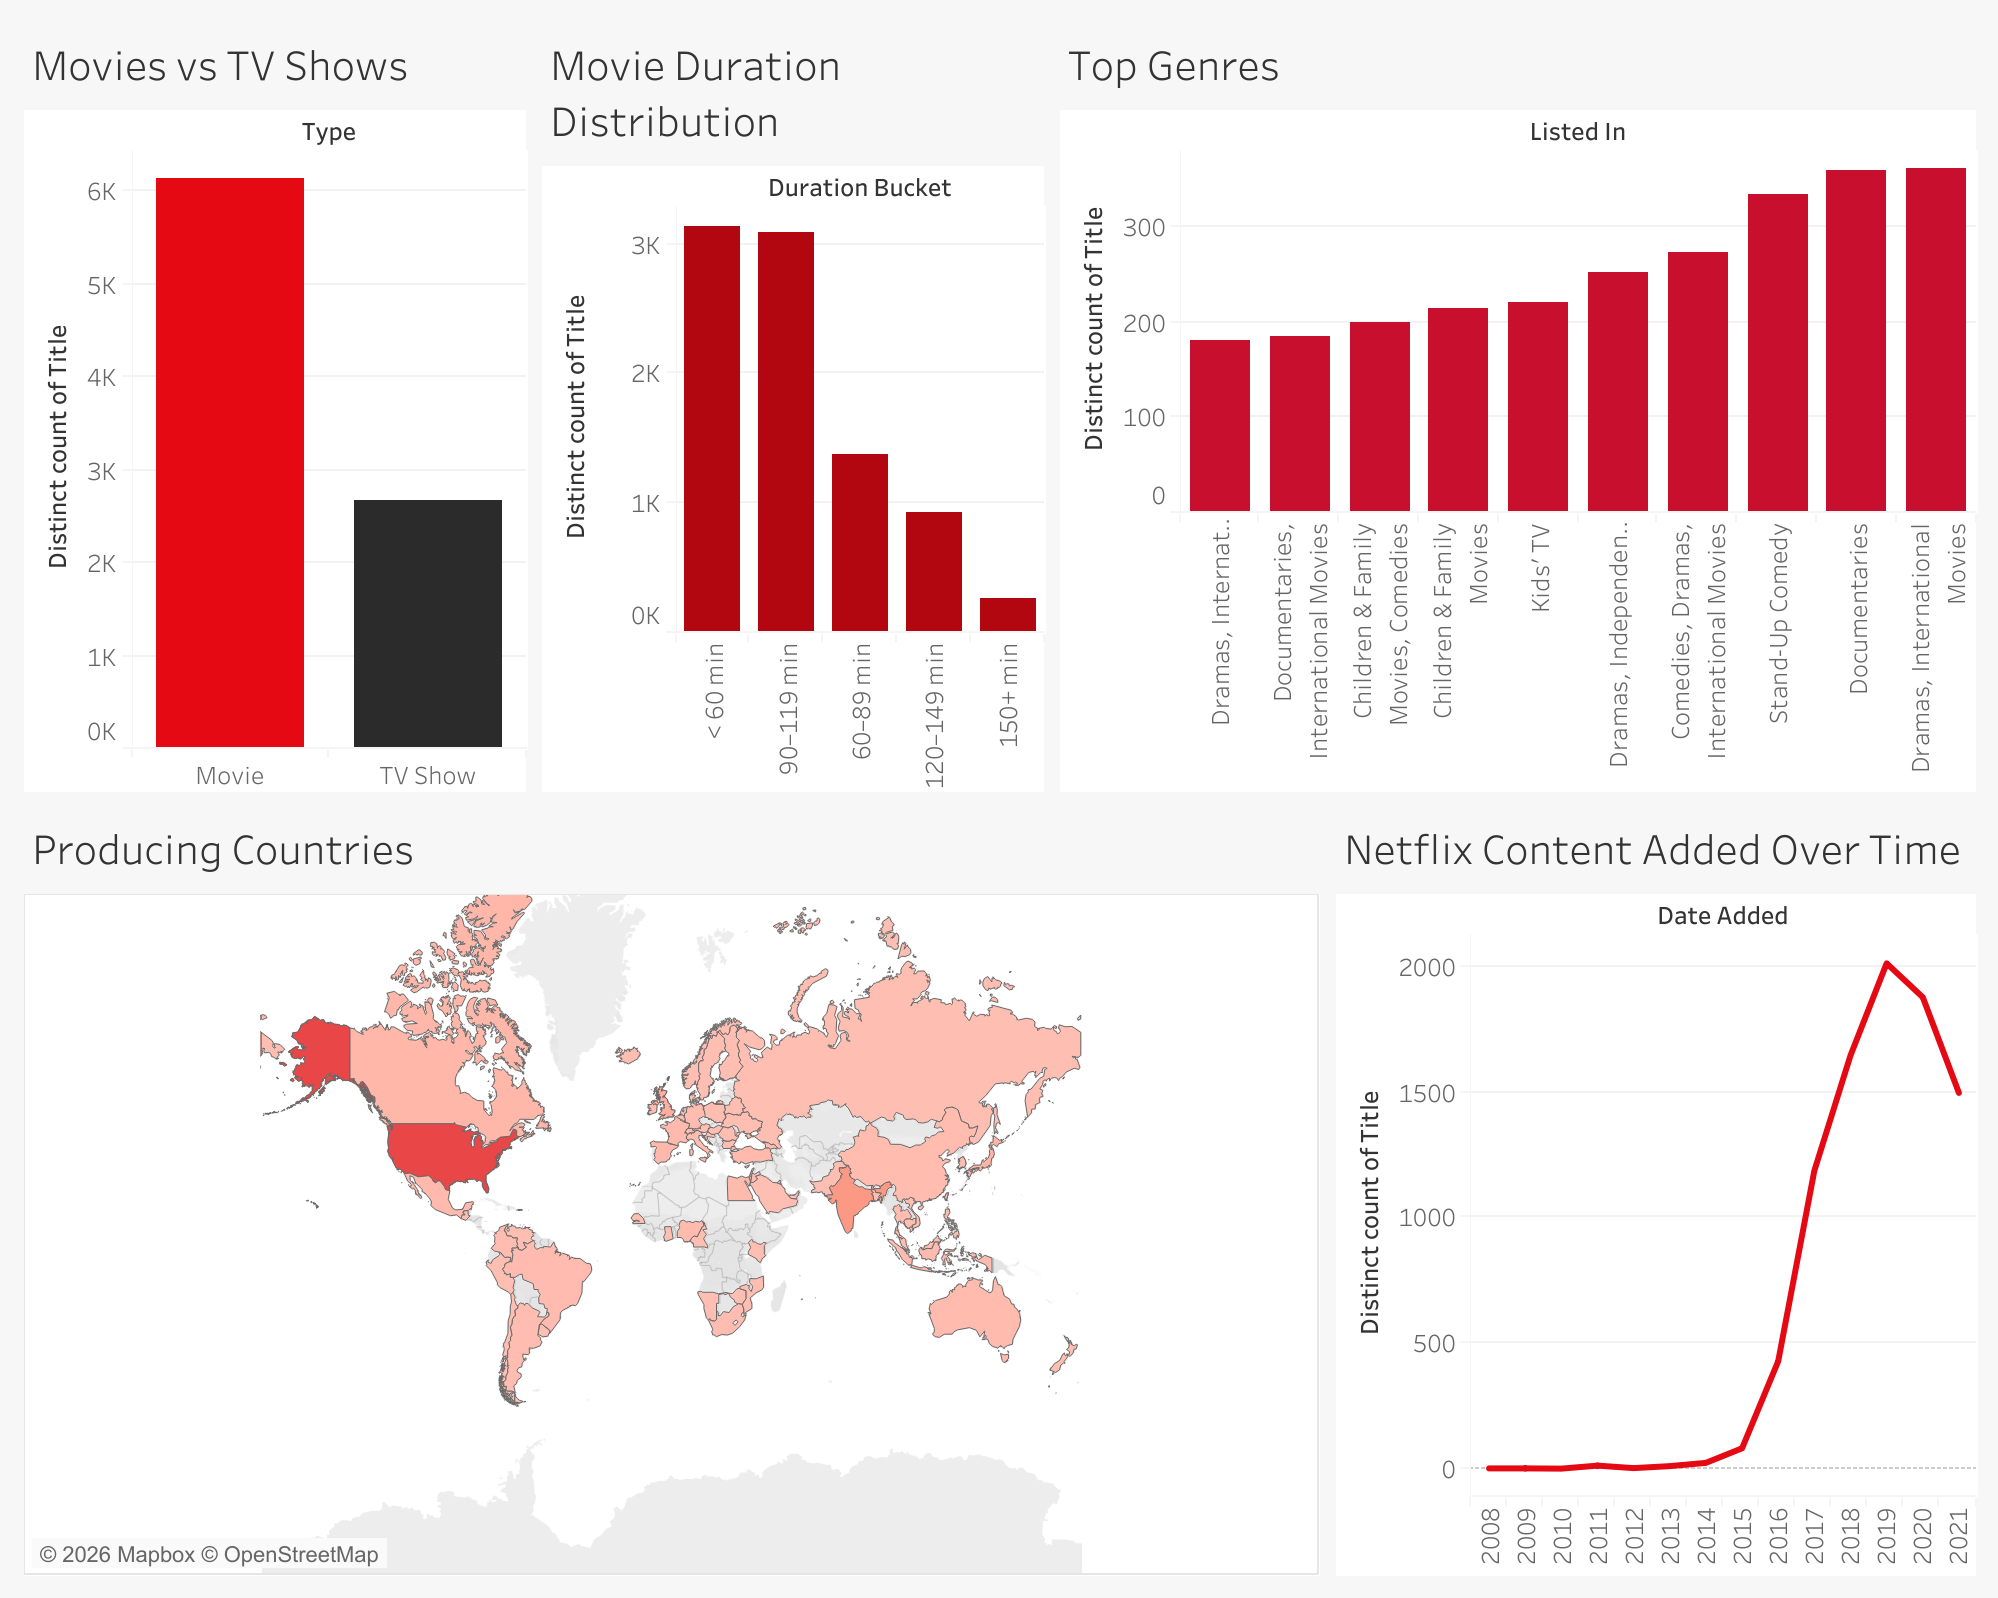

Layout of this report page (visuals, bound fields, positions):
{"tool":"tableau","page":{"name":"Netflix Content Dashboard","canvas":[1000,800],"ordinal":0},"visuals":[{"type":"worksheet","title":"Movies vs TV Shows","mark":"Automatic","rows":["title"],"cols":["type"],"box":[8,8,259,392]},{"type":"worksheet","title":"Movie Duration Distribution","mark":"Automatic","rows":["title"],"cols":["Calculation_0001140053946633"],"box":[267,8,259,392]},{"type":"worksheet","title":"Top Genres","mark":"Automatic","rows":["title"],"cols":["listed_in"],"box":[526,8,466,392]},{"type":"worksheet","title":"Producing Countries","mark":"Automatic","box":[8,400,656,392]},{"type":"worksheet","title":"Netflix Content Added Over Time","mark":"Automatic","rows":["title"],"cols":["date_added"],"box":[664,400,328,392]}]}

Visuals, with their boxes in screenshot pixels (x1, y1, x2, y2), scaled from the page's 1000x800 canvas onto the 1998x1598 screenshot:
"Movies vs TV Shows" worksheet: bbox=(16, 16, 533, 799)
"Movie Duration Distribution" worksheet: bbox=(533, 16, 1051, 799)
"Top Genres" worksheet: bbox=(1051, 16, 1982, 799)
"Producing Countries" worksheet: bbox=(16, 799, 1327, 1582)
"Netflix Content Added Over Time" worksheet: bbox=(1327, 799, 1982, 1582)
